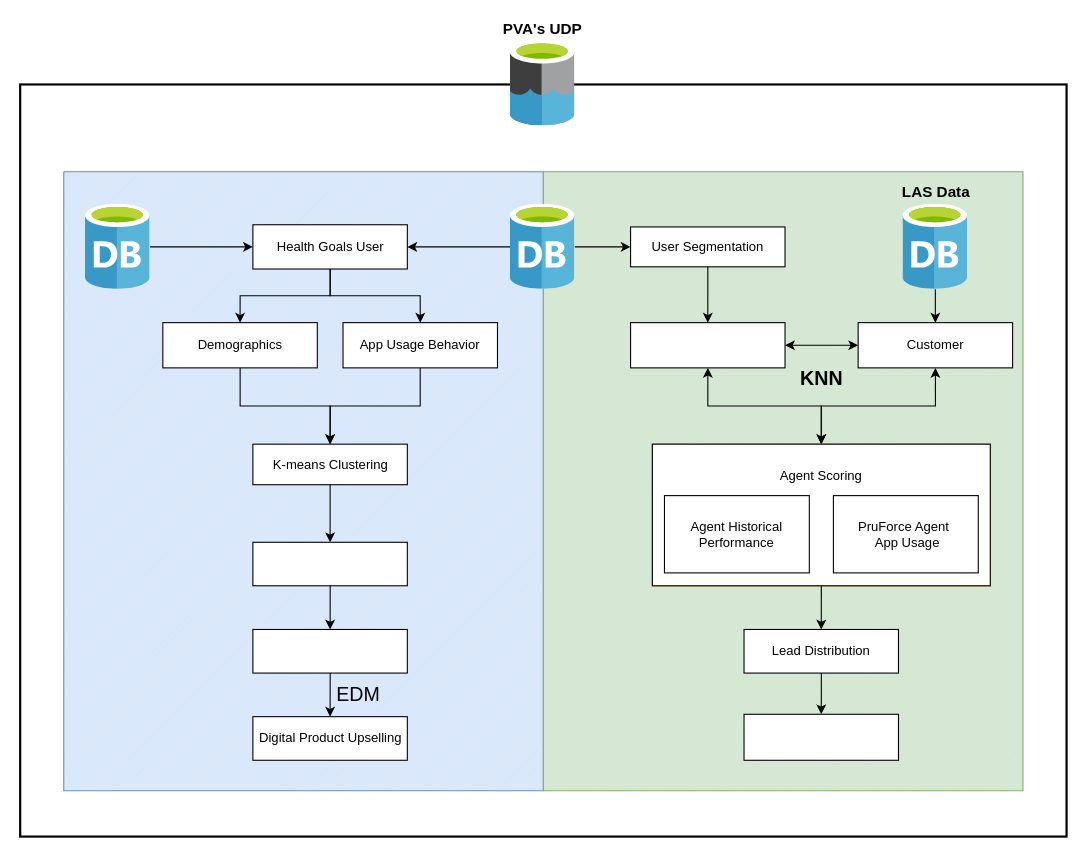
The diagram is 1086 pixels wide and 856 high, and some of its shapes have lost their labels. The shapes that lost their labels are listed below. From the top down, each one's centre as x and y in pixels, then its label:
(x=117, y=246): DPAS data
(x=542, y=246): Pulse Data
(x=707, y=345): Hot Leads
(x=329, y=563): Propensity Modelling
(x=329, y=650): Digital Product Recomendation
(x=820, y=736): Traditional Policy Upselling
